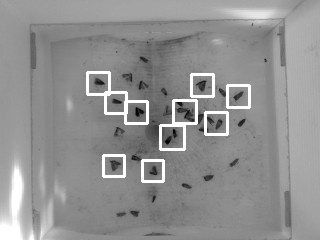insect: (108, 158, 122, 172), (120, 70, 134, 83), (195, 78, 207, 92), (232, 89, 245, 101), (134, 104, 145, 118), (183, 108, 194, 122), (137, 78, 149, 90), (195, 111, 205, 125), (113, 125, 124, 137), (148, 164, 159, 176), (163, 104, 174, 115), (93, 76, 105, 86), (202, 173, 216, 181), (138, 54, 149, 64), (217, 86, 227, 97), (214, 118, 223, 130), (110, 97, 123, 105), (180, 182, 193, 190), (163, 134, 172, 145), (237, 117, 246, 128), (229, 157, 240, 166), (197, 125, 209, 133), (130, 153, 142, 161), (174, 96, 183, 106), (206, 115, 215, 125), (129, 209, 140, 217), (159, 86, 167, 96), (171, 127, 178, 138), (176, 107, 188, 113), (116, 211, 127, 217), (150, 194, 157, 203)
